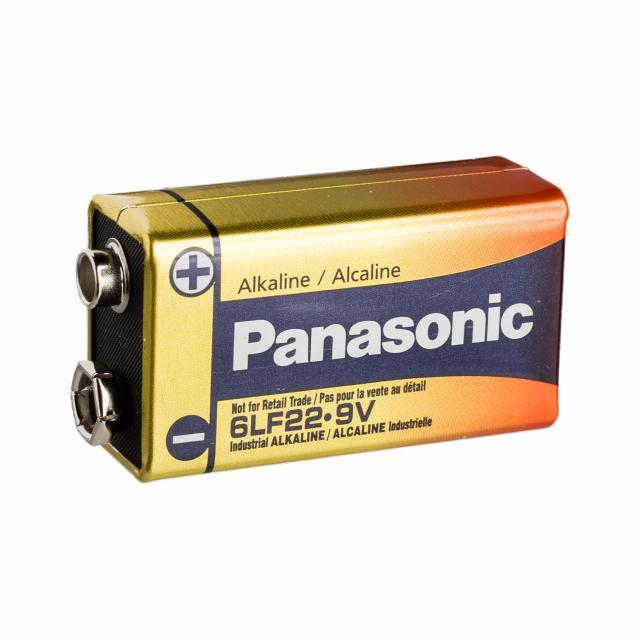Hazard: (55, 140, 590, 486)
